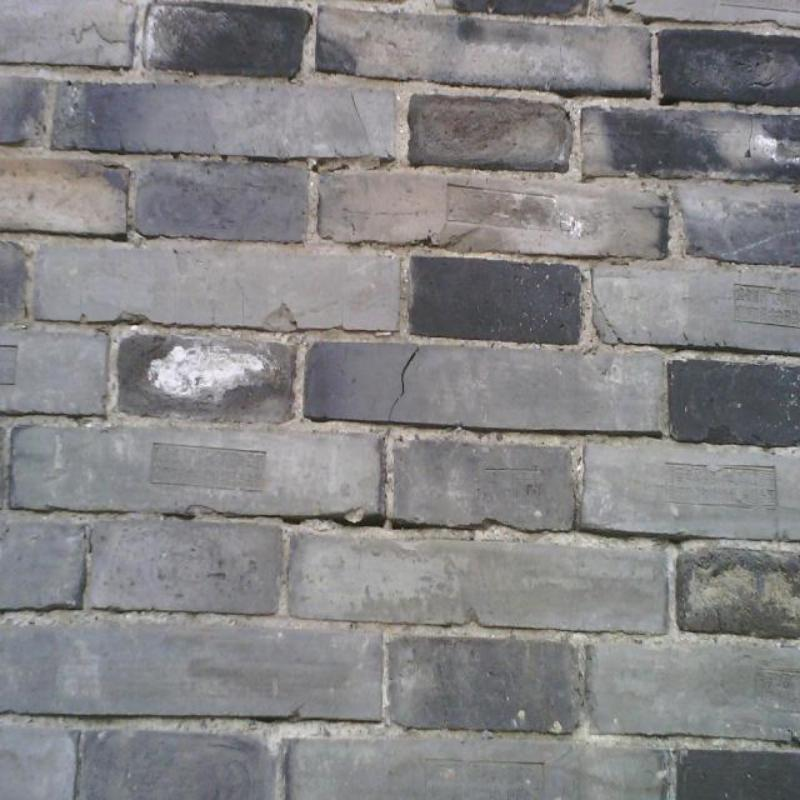pothole: (389, 346, 420, 420), (71, 22, 134, 47), (594, 297, 624, 342), (350, 91, 366, 134), (748, 115, 753, 156)
